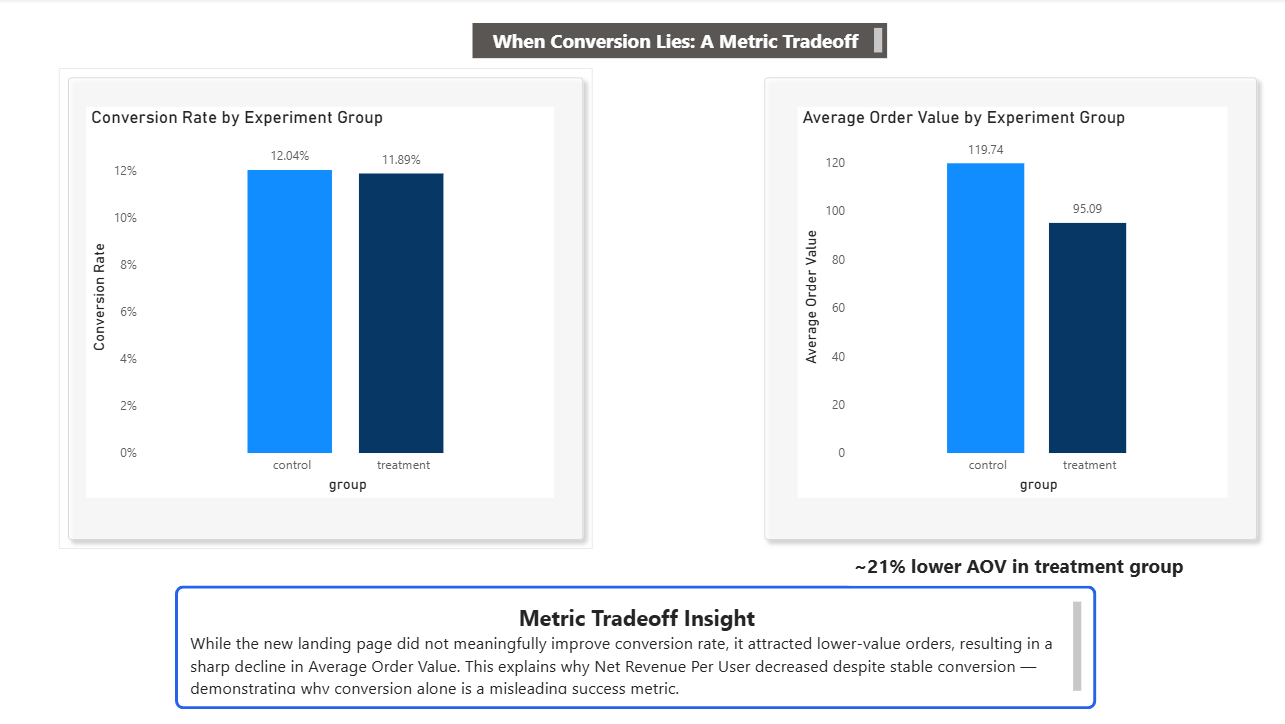

What the dashboard file says about the page in this screenshot:
{"tool":"powerbi","page":{"name":"Metric Tradeoffs","canvas":[1280,720],"ordinal":1},"visuals":[{"type":"shape","box":[190.8,574.7,901.2,121.1],"z":0},{"type":"shape","box":[758.2,68.5,500.1,470.8],"z":1000},{"type":"shape","box":[77,68.5,522.1,470.8],"z":2000},{"type":"clusteredColumnChart","title":"Conversion Rate by Experiment Group","fields":{"Category":["ab_test_full_project_dataset.group"],"Y":["ab_test_full_project_dataset.Conversion Rate"]},"box":[103.9,106.4,457.3,382.7],"z":3000},{"type":"clusteredColumnChart","title":"Average Order Value by Experiment Group","fields":{"Category":["ab_test_full_project_dataset.group"],"Y":["ab_test_full_project_dataset.Average Order Value"]},"box":[799.7,106.4,420.7,382.7],"z":4000},{"type":"textbox","box":[200.5,585.7,881.7,100.3],"z":5000},{"type":"textbox","box":[481.8,24.5,406,34.2],"z":6000},{"type":"textbox","box":[849.9,538,353.4,36.7],"z":6001}]}

Visuals, with their boxes in screenshot pixels (x1, y1, x2, y2), scaled from the page's 1280x720 canvas onto the 1285x724 screenshot:
shape: x1=192, y1=578, x2=1096, y2=700
shape: x1=761, y1=69, x2=1263, y2=542
shape: x1=77, y1=69, x2=601, y2=542
"Conversion Rate by Experiment Group" clusteredColumnChart: x1=104, y1=107, x2=563, y2=492
"Average Order Value by Experiment Group" clusteredColumnChart: x1=803, y1=107, x2=1225, y2=492
textbox: x1=201, y1=589, x2=1086, y2=690
textbox: x1=484, y1=25, x2=891, y2=59
textbox: x1=853, y1=541, x2=1208, y2=578
